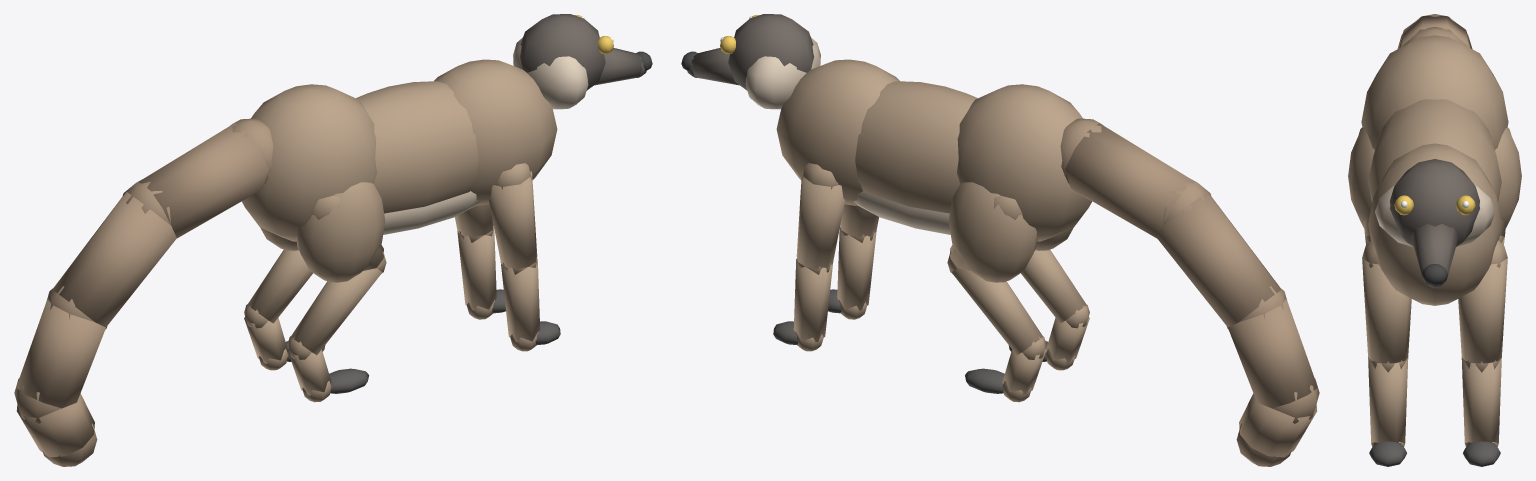
File: common-brown-lemur.glb
3 renders of one model, left to right at view 1: azimuth 30°, elevation 25°; view 2: azimuth 150°, elevation 25°; view 3: azimuth 270°, elevation 25°, orthographic. The views are drawn at different scales.
Parts seen in each view (by area): view 1: e, e.039, e.008, e.030, e.003, e.021, e.016; view 2: e, e.039, e.021, e.030, e.016, e.008, e.003; view 3: e, e.030, e.003, e.016, e.008, e.021, e.039.
Part boxes in pixels (left/top/right/bottom): e: left=242, top=59, right=557, bottom=241; e.039: left=14, top=118, right=273, bottom=466; e.008: left=287, top=182, right=386, bottom=402; e.030: left=513, top=14, right=652, bottom=109; e.003: left=489, top=163, right=560, bottom=351; e.021: left=244, top=227, right=325, bottom=370; e.016: left=455, top=204, right=505, bottom=319; e: left=776, top=59, right=1091, bottom=241; e.039: left=1060, top=118, right=1319, bottom=466; e.021: left=947, top=182, right=1046, bottom=402; e.030: left=681, top=14, right=820, bottom=109; e.016: left=773, top=163, right=844, bottom=351; e.008: left=1008, top=227, right=1089, bottom=370; e.003: left=828, top=204, right=878, bottom=319; e: left=1361, top=35, right=1508, bottom=305; e.030: left=1375, top=159, right=1494, bottom=287; e.003: left=1362, top=240, right=1411, bottom=466; e.016: left=1458, top=240, right=1507, bottom=466; e.008: left=1348, top=127, right=1374, bottom=244; e.021: left=1495, top=127, right=1521, bottom=244; e.039: left=1397, top=14, right=1472, bottom=49.
Bounding box in the file's own units: 1.18 × 0.5799 × 0.26.
